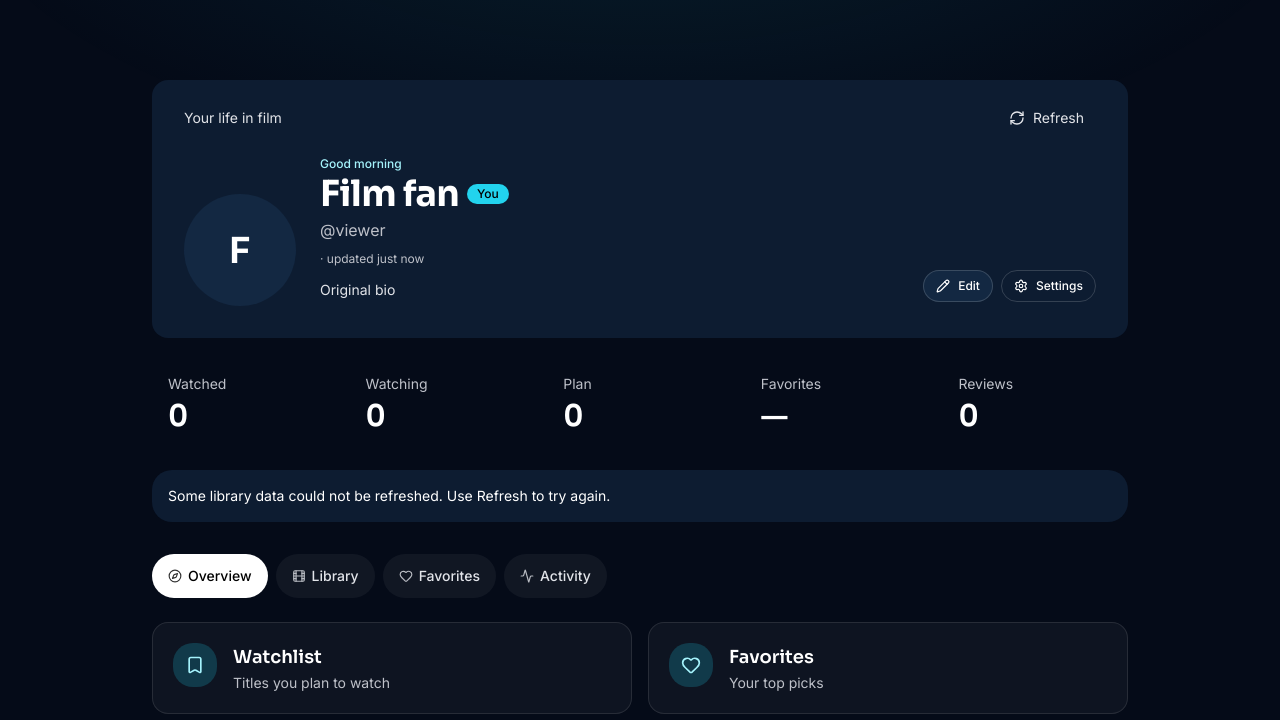
Test case: failed favorites requests show a recoverable error instead of an empty collection
Expected: the heading "Film fan" is shown, [320,174,459,214]
Expected: the message shows "could not be refreshed", [168,486,610,504]
What coordinates should you click on to do the following:
click the button "Favorites"
I would click on:
 (439, 576)
Its box is [383,554,496,598].
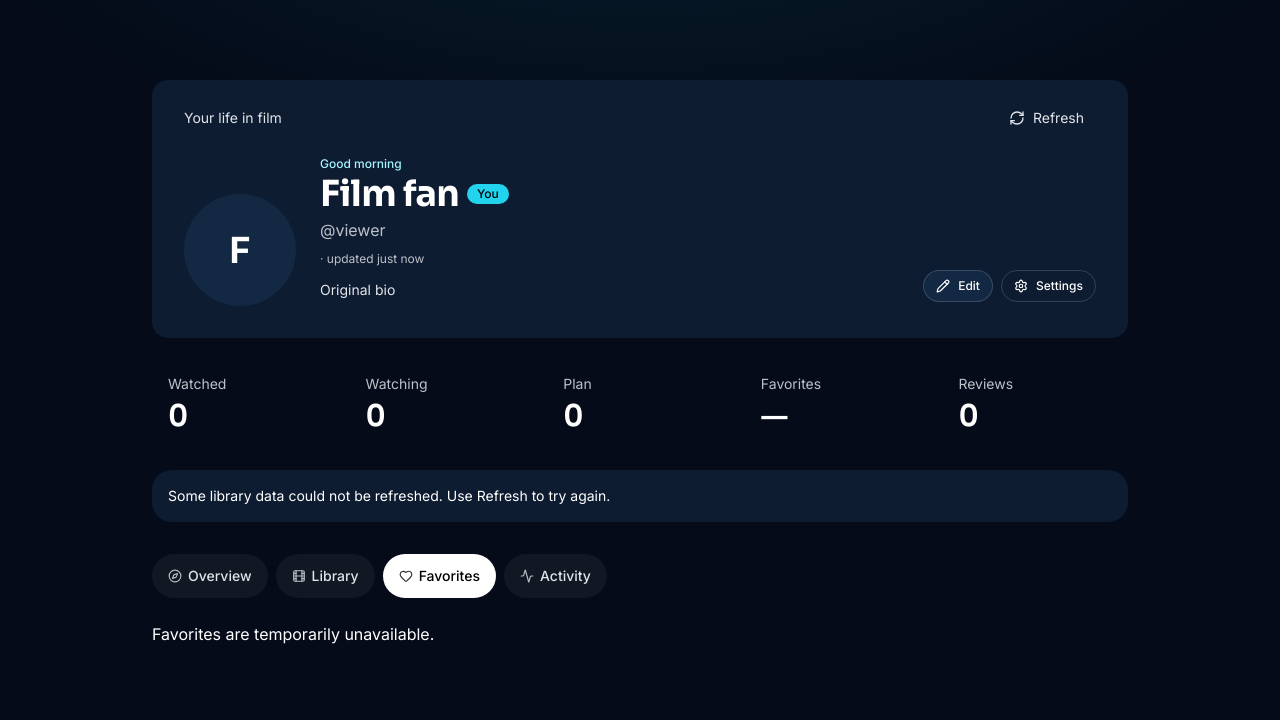
Result: the text "Favorites are temporarily unavailable." is shown at [152,624,434,644]
